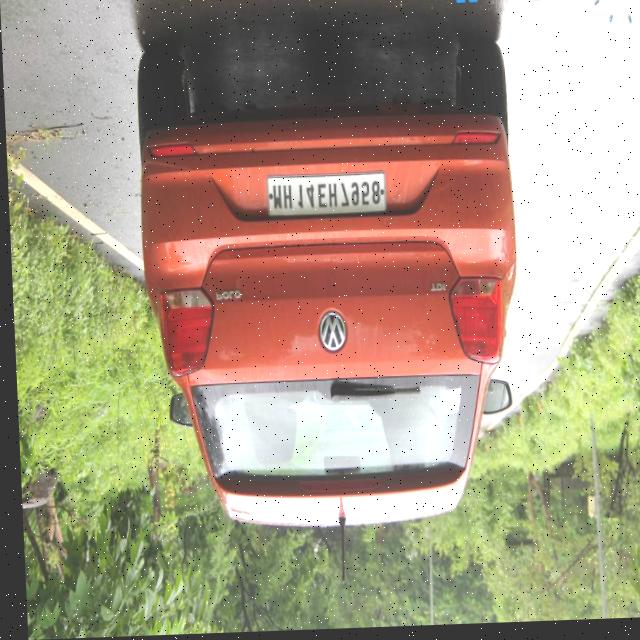plate: (265, 175, 384, 220)
